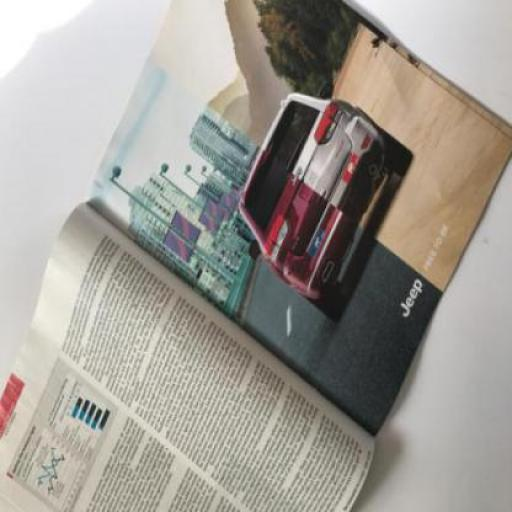paper: (0, 0, 511, 511), (85, 0, 511, 434), (0, 199, 374, 511)
